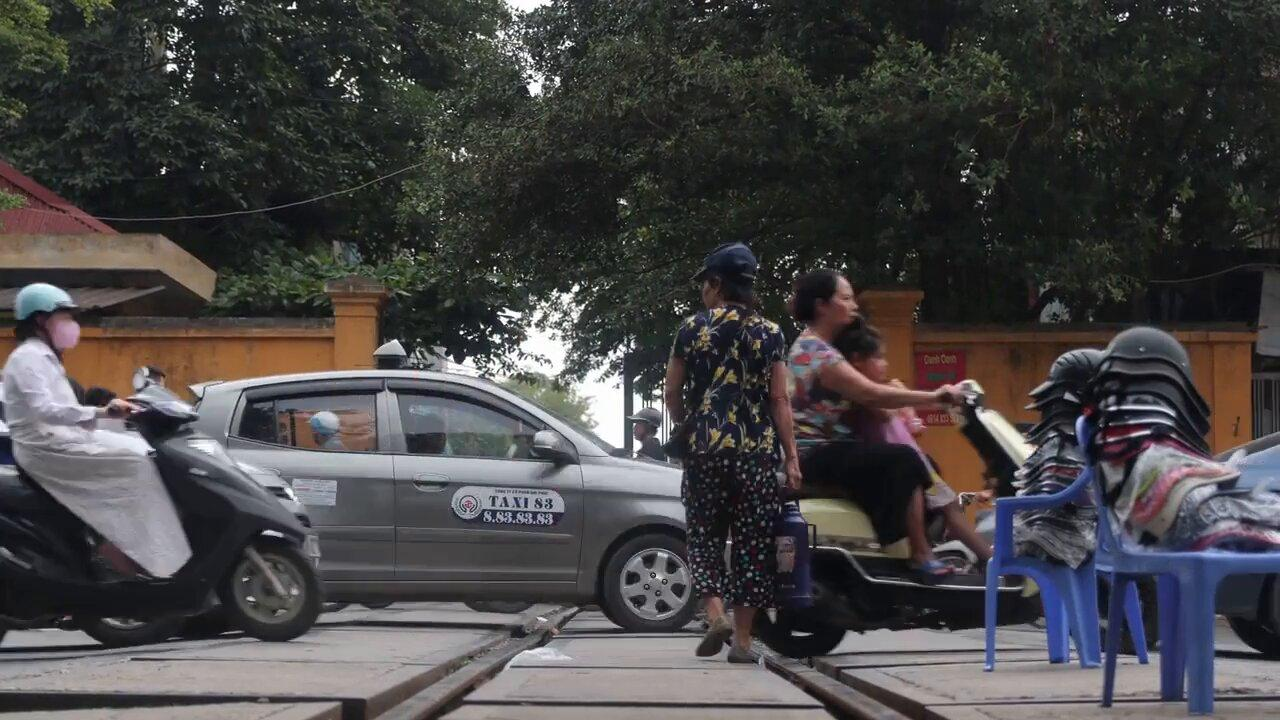driver: (749, 268, 1163, 655), (0, 281, 324, 647)
helmet: (13, 282, 81, 356)
no-helmet: (688, 242, 758, 311), (785, 269, 859, 330), (833, 320, 890, 383)
